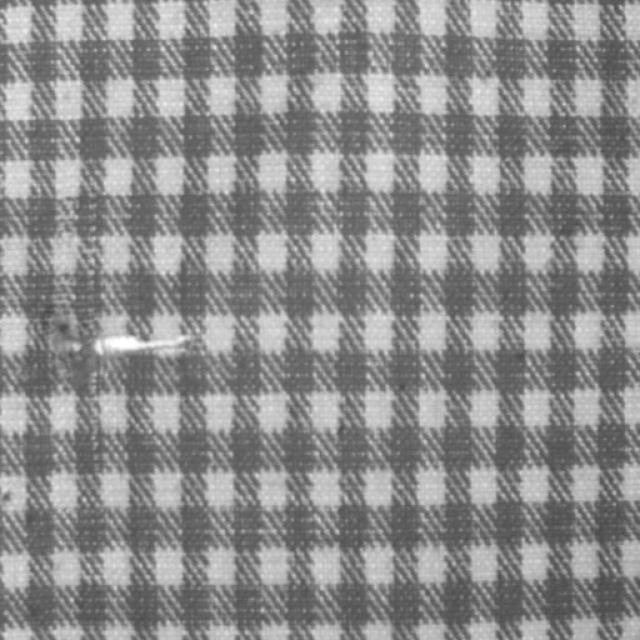Hole-Defect: (49, 314, 196, 358)
